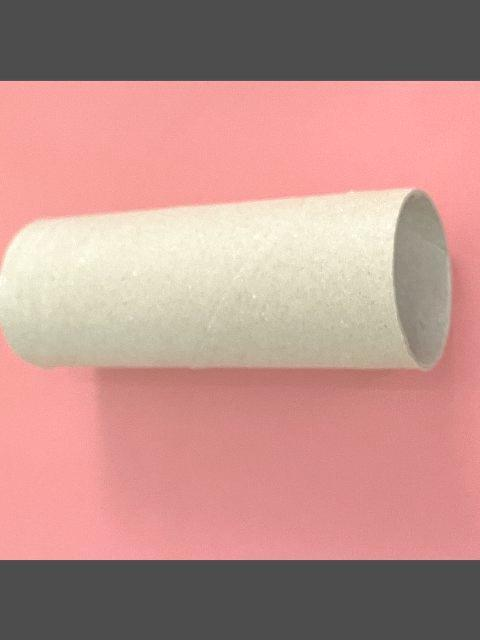tissueroll: (0, 185, 454, 370)
